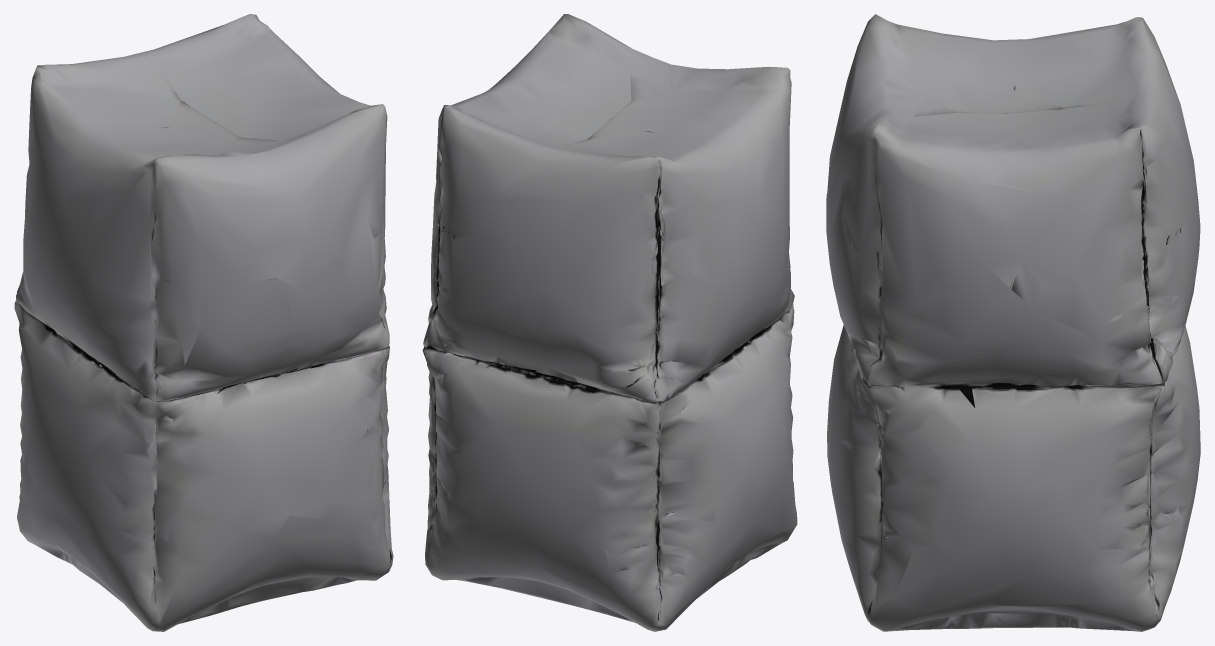
Rendered from 02_1_gs_pv_i_vase.glb.
3 renders of one model, left to right at view 1: azimuth 30°, elevation 25°; view 2: azimuth 150°, elevation 25°; view 3: azimuth 270°, elevation 25°, orthographic. The views are drawn at different scales.
Parts seen in each view (by area): view 1: tripo_material_97adc788-33a5-40f7-9c32-e552af57e506; view 2: tripo_material_97adc788-33a5-40f7-9c32-e552af57e506; view 3: tripo_material_97adc788-33a5-40f7-9c32-e552af57e506.
Part boxes in pixels (box(x1,y1,x2,y2)): tripo_material_97adc788-33a5-40f7-9c32-e552af57e506: box(14, 14, 393, 631); tripo_material_97adc788-33a5-40f7-9c32-e552af57e506: box(422, 14, 797, 631); tripo_material_97adc788-33a5-40f7-9c32-e552af57e506: box(826, 14, 1200, 631).
Bounding box in the file's own units: 0.1701 × 0.2502 × 0.1688.
1 material, 1 textured.
